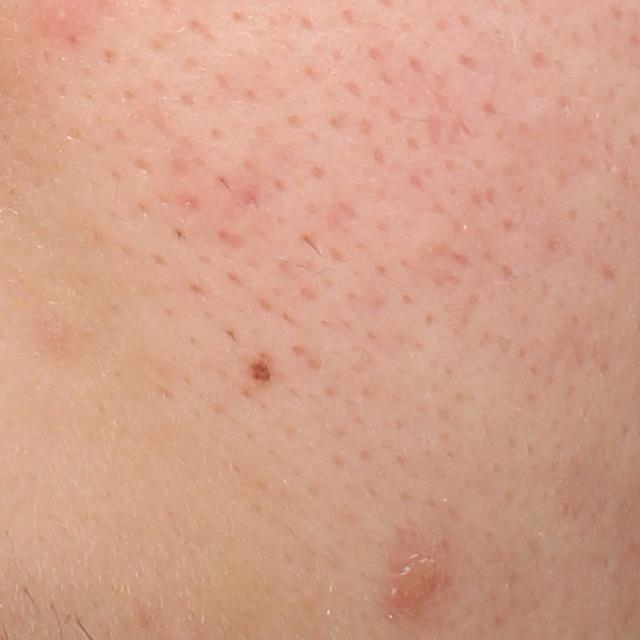nevus: (248, 357, 274, 383)
papule: (394, 550, 443, 610)
